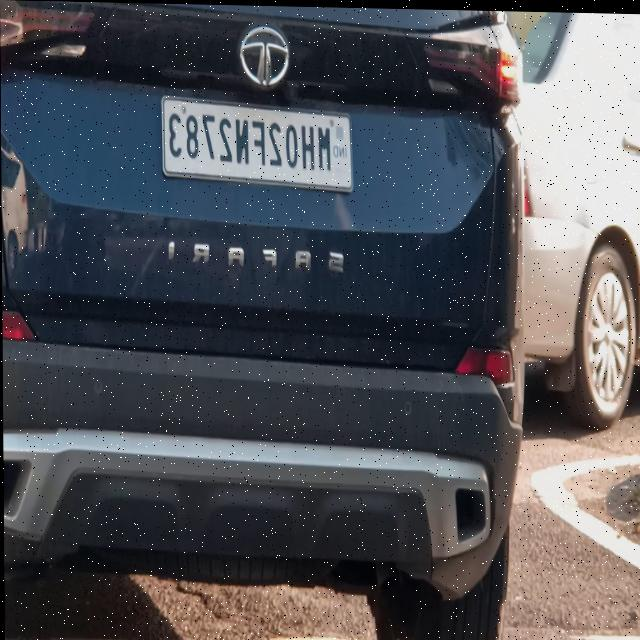plate: (161, 93, 354, 191)
